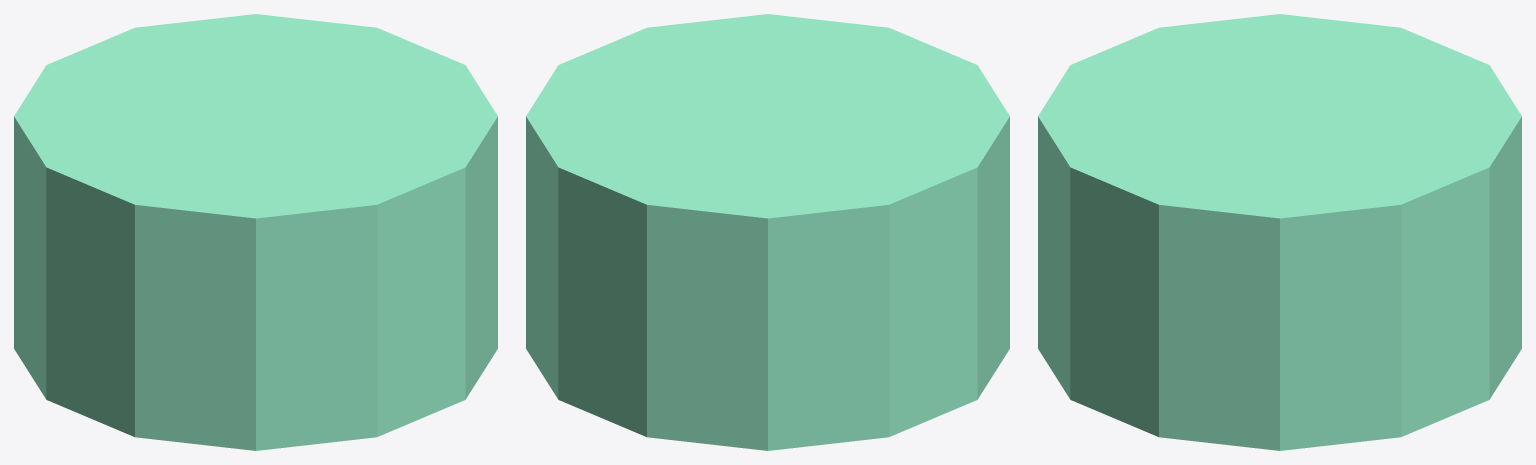
The model's file is cream3.glb.
The picture shows the model from 3 angles, left to right: view 1: azimuth 30°, elevation 25°; view 2: azimuth 150°, elevation 25°; view 3: azimuth 270°, elevation 25°; orthographic projection.
Bounding box in the file's own units: 0.35 × 0.1855 × 0.35.
